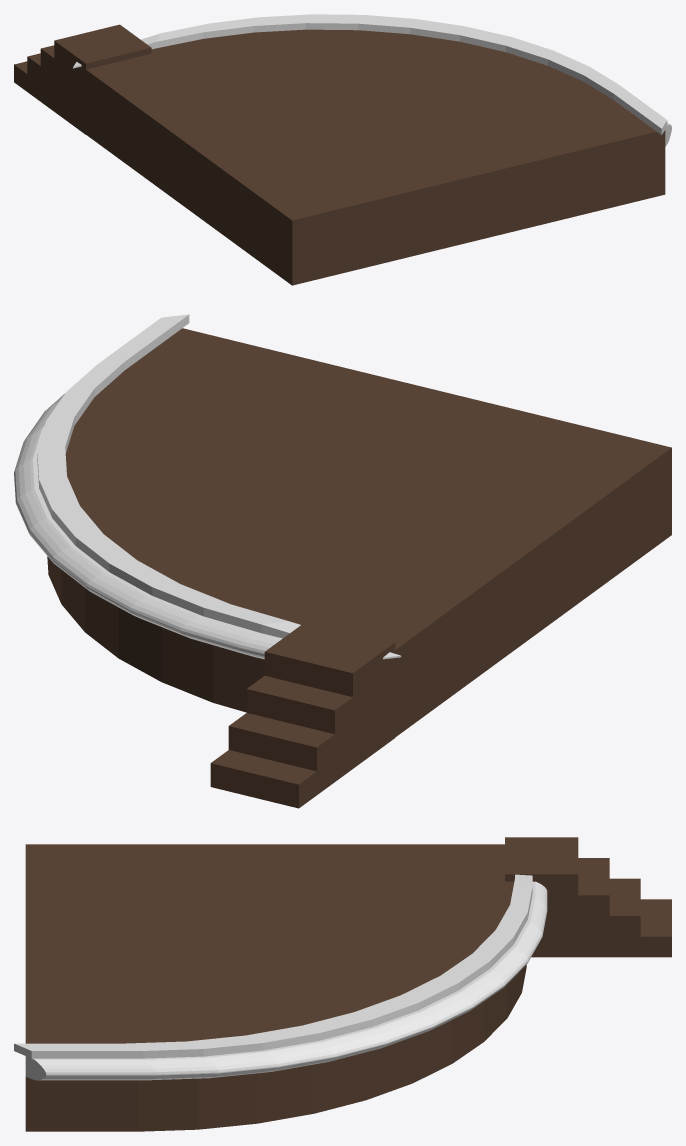
File: Scenario.fbx
3 views of the same model, one above another, from view 1: azimuth 30°, elevation 25°; view 2: azimuth 150°, elevation 25°; view 3: azimuth 270°, elevation 25° (orthographic). The views are drawn at different scales.
Visible parts, largest first — view 1: Cube; view 2: Cube; view 3: Cube.
Boxes of the visible parts, <box> form: Cube: <box>14,14,671,285</box>; Cube: <box>14,314,671,808</box>; Cube: <box>14,837,671,1131</box>.
Bounding box in the file's own units: 639 × 110 × 788.
